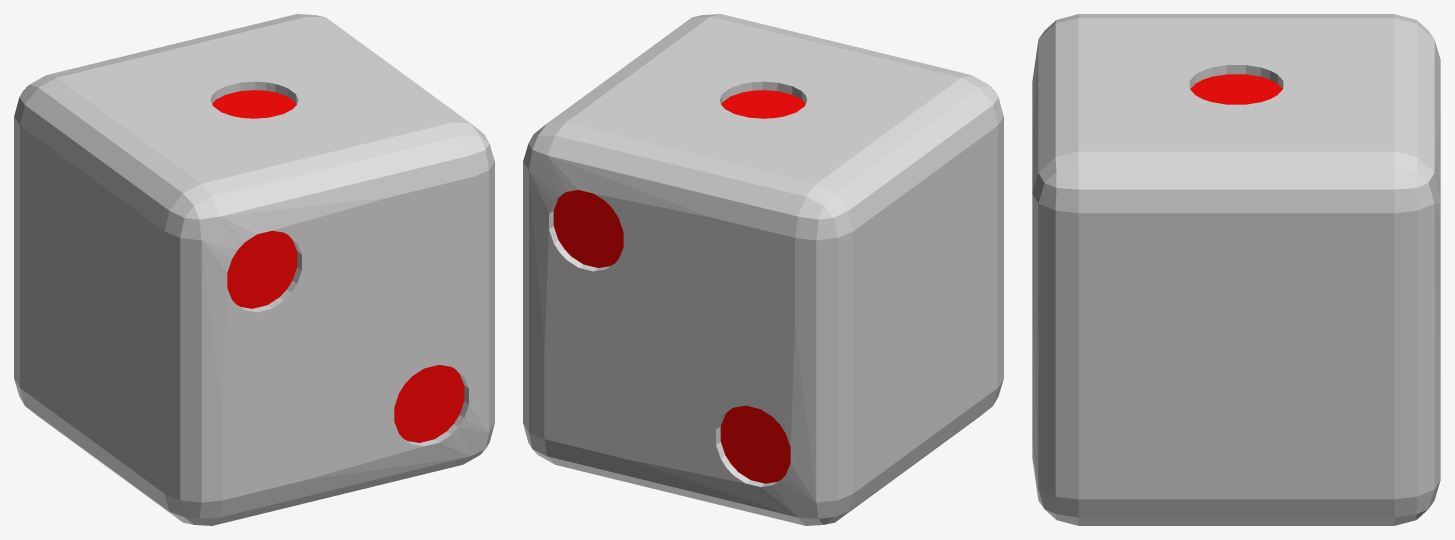
Rendered from dice.fbx.
3 views of the same model, side by side, from view 1: azimuth 30°, elevation 25°; view 2: azimuth 150°, elevation 25°; view 3: azimuth 270°, elevation 25° (orthographic). The views are drawn at different scales.
Visible parts, largest first — view 1: Cube; view 2: Cube; view 3: Cube.
Boxes of the visible parts, box(x1,y1,x2,y2) form: Cube: box(14, 14, 494, 525); Cube: box(523, 14, 1003, 525); Cube: box(1032, 14, 1440, 525).
Bounding box in the file's own units: 200 × 200 × 200.
